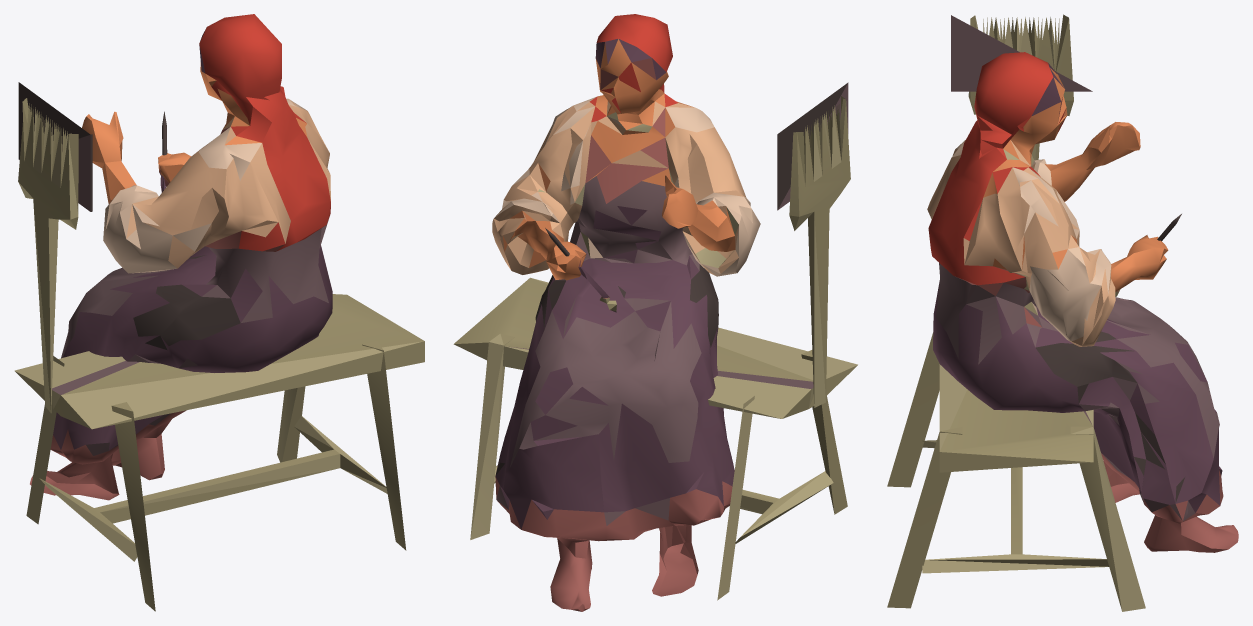
File: spinner.glb
3 renders of one model, left to right at view 1: azimuth 30°, elevation 25°; view 2: azimuth 150°, elevation 25°; view 3: azimuth 270°, elevation 25°, orthographic.
Visible parts, largest first — view 1: c8, c0, c9, c3, c4, c7, c1, c5, c2, c6; view 2: c9, c7, c0, c8, c2, c4, c6, c5, c1, c3; view 3: c9, c8, c7, c3, c4, c6, c0, c5, c2, c1.
Boxes of the visible parts, x1=… form: c8: x1=15, y1=98, x2=424, y2=611; c0: x1=14, y1=107, x2=423, y2=561; c9: x1=53, y1=27, x2=332, y2=450; c3: x1=199, y1=14, x2=330, y2=251; c4: x1=126, y1=100, x2=330, y2=268; c7: x1=19, y1=135, x2=329, y2=455; c1: x1=18, y1=82, x2=240, y2=350; c5: x1=103, y1=98, x2=306, y2=273; c2: x1=30, y1=127, x2=294, y2=500; c6: x1=82, y1=62, x2=307, y2=204; c9: x1=495, y1=39, x2=734, y2=529; c7: x1=496, y1=83, x2=848, y2=525; c0: x1=470, y1=98, x2=857, y2=600; c8: x1=453, y1=96, x2=857, y2=543; c2: x1=495, y1=58, x2=732, y2=611; c4: x1=492, y1=101, x2=745, y2=275; c6: x1=502, y1=39, x2=735, y2=280; c5: x1=494, y1=96, x2=760, y2=276; c1: x1=495, y1=83, x2=847, y2=475; c3: x1=589, y1=14, x2=677, y2=122; c9: x1=933, y1=63, x2=1222, y2=512; c8: x1=887, y1=14, x2=1121, y2=610; c7: x1=936, y1=15, x2=1219, y2=521; c3: x1=928, y1=52, x2=1066, y2=285; c4: x1=927, y1=141, x2=1115, y2=346; c6: x1=983, y1=68, x2=1168, y2=291; c0: x1=922, y1=16, x2=1145, y2=611; c5: x1=952, y1=140, x2=1111, y2=341; c2: x1=959, y1=97, x2=1238, y2=552; c1: x1=1035, y1=214, x2=1184, y2=502.
Bounding box in the file's own units: 1.1 × 1.57 × 0.9952.
